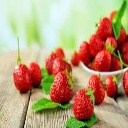strawberry: (49, 68, 74, 103), (72, 88, 96, 121), (11, 59, 33, 93), (86, 72, 106, 107)
